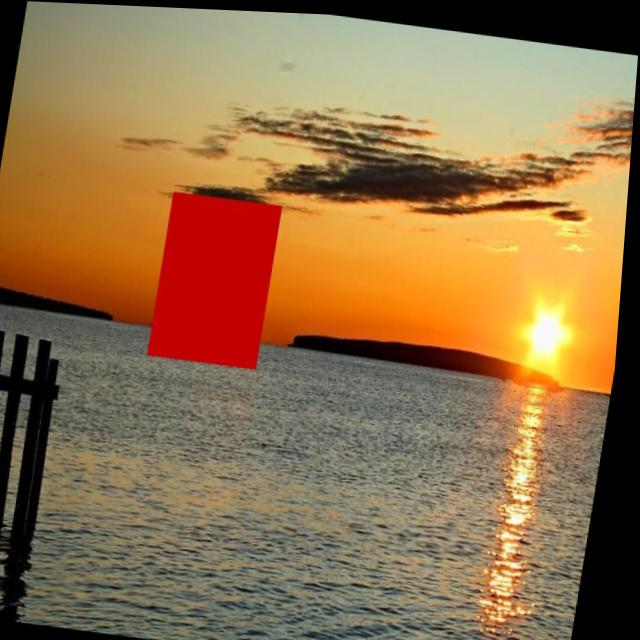RedSquare: (146, 177, 293, 374)
